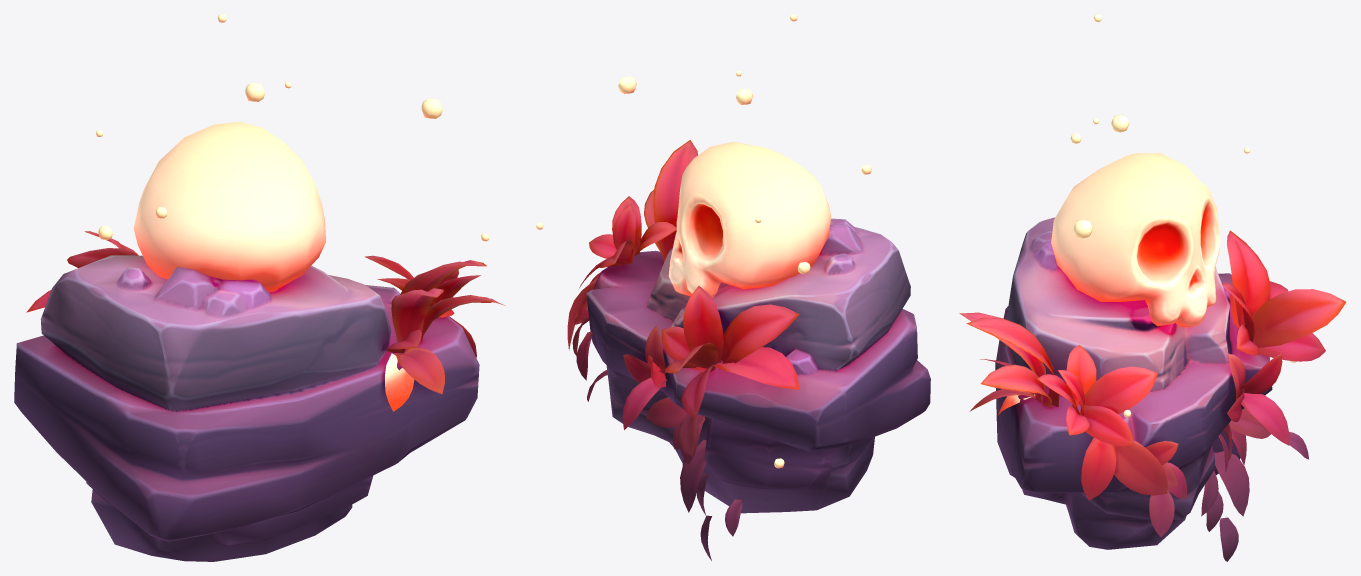
Rendered from skull.gltf.
3 renders of one model, left to right at view 1: azimuth 30°, elevation 25°; view 2: azimuth 150°, elevation 25°; view 3: azimuth 270°, elevation 25°, orthographic. The views are drawn at different scales.
Visible parts, largest first — view 1: Rock_LP, Skull_LP, Grass_12_LP, Grass_36_LP, Grass_37_LP, Grass_11_LP, Grass_13_LP, Grass_05_LP; view 2: Rock_LP, Skull_LP, Grass_05_LP, Grass_11_LP, Grass_10_LP, Grass_03_LP, Grass_26_LP, Grass_09_LP, Grass_02_LP, Grass_27_LP, Grass_01_LP, Grass_04_LP (+9 smaller); view 3: Rock_LP, Skull_LP, Grass_02_LP, Grass_05_LP, Grass_15_LP, Grass_29_LP, Grass_11_LP, Grass_28_LP, Grass_14_LP, Grass_13_LP, Grass_26_LP, Grass_09_LP (+12 smaller).
Boxes of the visible parts, <box> form: Rock_LP: <box>14,255,479,561</box>; Skull_LP: <box>133,121,325,291</box>; Grass_12_LP: <box>391,288,443,342</box>; Grass_36_LP: <box>395,347,444,394</box>; Grass_37_LP: <box>385,353,414,411</box>; Grass_11_LP: <box>396,260,486,342</box>; Grass_13_LP: <box>420,296,505,342</box>; Grass_05_LP: <box>67,248,137,267</box>; Rock_LP: <box>586,218,930,513</box>; Skull_LP: <box>668,141,831,298</box>; Grass_05_LP: <box>719,304,799,369</box>; Grass_11_LP: <box>653,140,697,261</box>; Grass_10_LP: <box>713,347,799,389</box>; Grass_03_LP: <box>683,286,723,363</box>; Grass_26_LP: <box>680,440,706,512</box>; Grass_09_LP: <box>622,377,667,429</box>; Grass_02_LP: <box>664,342,718,373</box>; Grass_27_LP: <box>646,397,687,427</box>; Grass_01_LP: <box>681,361,716,418</box>; Grass_04_LP: <box>661,326,706,371</box>; Rock_LP: <box>995,217,1272,549</box>; Skull_LP: <box>1051,153,1220,327</box>; Grass_02_LP: <box>1243,289,1346,348</box>; Grass_05_LP: <box>1227,230,1270,326</box>; Grass_15_LP: <box>1079,366,1157,413</box>; Grass_29_LP: <box>1113,440,1167,495</box>; Grass_11_LP: <box>966,317,1059,406</box>; Grass_28_LP: <box>1081,437,1116,500</box>; Grass_14_LP: <box>1078,405,1134,446</box>; Grass_13_LP: <box>980,364,1051,408</box>; Grass_26_LP: <box>1214,451,1249,516</box>; Grass_09_LP: <box>1235,393,1289,445</box>.
Bounding box in the file's own units: 1.52 × 2.06 × 1.35.
